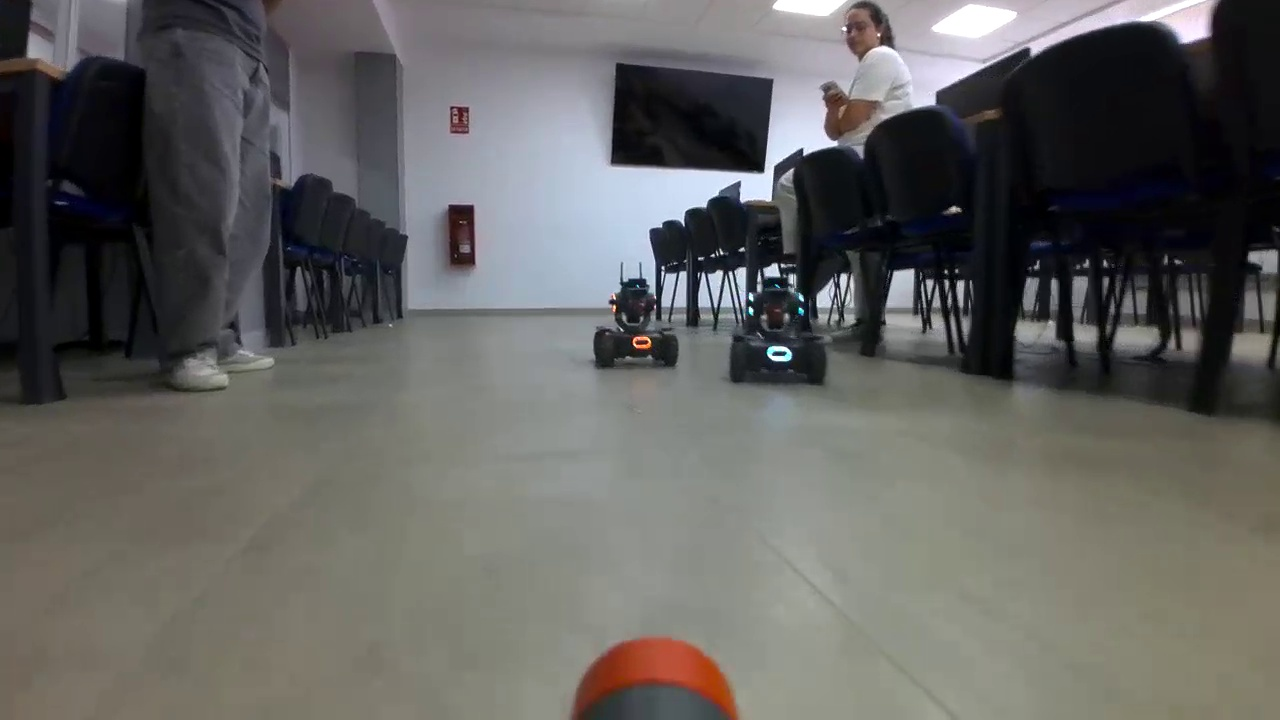robot: (729, 276, 828, 387), (593, 277, 680, 369)
